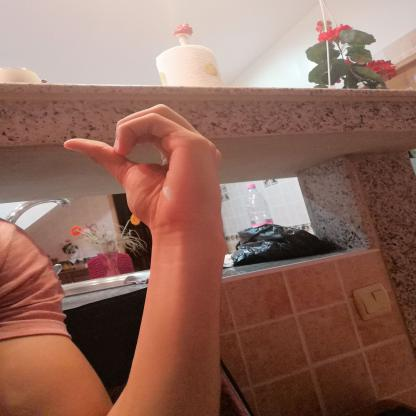WAW: (49, 93, 248, 248)
